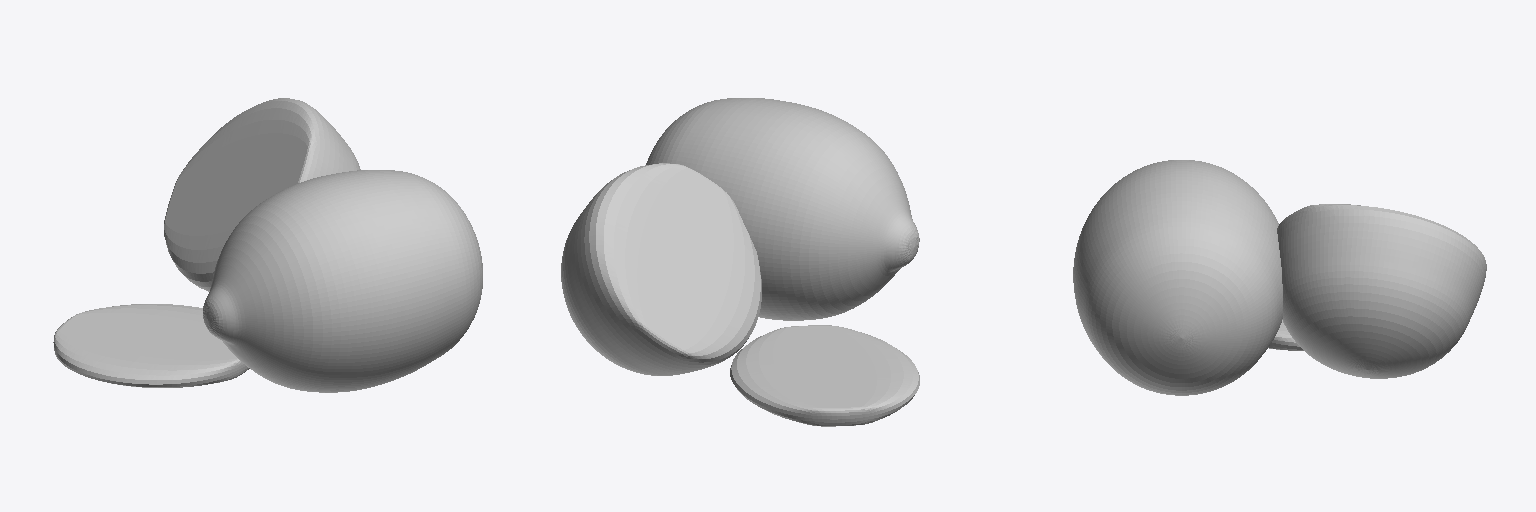
File: limones.obj
3 renders of one model, left to right at view 1: azimuth 30°, elevation 25°; view 2: azimuth 150°, elevation 25°; view 3: azimuth 270°, elevation 25°, orthographic.
Parts seen in each view (by area): view 1: Circle_Mesh.002, Circle.001_Mesh.001, Circle.002_Mesh; view 2: Circle_Mesh.002, Circle.001_Mesh.001, Circle.002_Mesh; view 3: Circle_Mesh.002, Circle.001_Mesh.001.
Part boxes in pixels (bbox=[...]): Circle_Mesh.002: bbox=[203, 170, 482, 392]; Circle.001_Mesh.001: bbox=[164, 98, 360, 291]; Circle.002_Mesh: bbox=[53, 304, 249, 387]; Circle_Mesh.002: bbox=[646, 98, 919, 320]; Circle.001_Mesh.001: bbox=[561, 163, 761, 375]; Circle.002_Mesh: bbox=[730, 325, 919, 426]; Circle_Mesh.002: bbox=[1073, 160, 1282, 395]; Circle.001_Mesh.001: bbox=[1277, 204, 1486, 378].
Bounding box in the file's own units: 9.51 × 5.4 × 10.3.